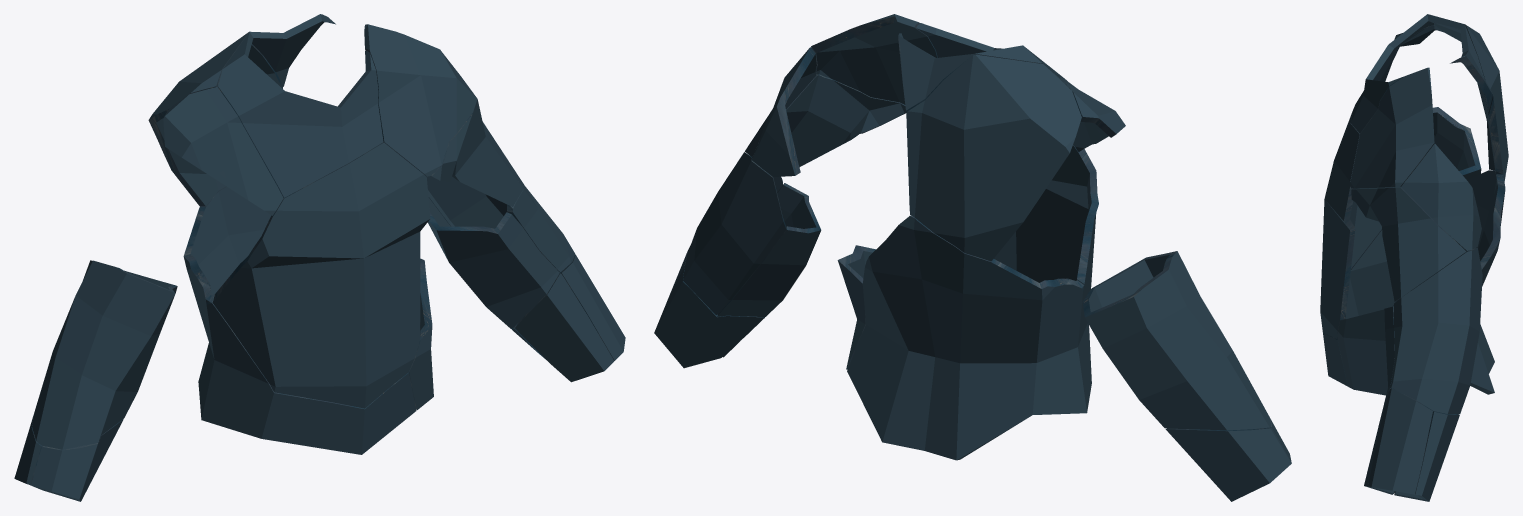
Rendered from pechera roto.fbx.
3 renders of one model, left to right at view 1: azimuth 30°, elevation 25°; view 2: azimuth 150°, elevation 25°; view 3: azimuth 270°, elevation 25°, orthographic. The views are drawn at different scales.
Visible parts, largest first — view 1: male.002_cell.013, male.002_cell.009, male.002_cell.005, male.002_cell.010, male.002_cell.015, male.002_cell.012, male.002_cell.002, male.002_cell.007, male.002_cell.003, male.002_cell.011, male.002_cell.014, male.002_cell (+3 smaller); view 2: male.002_cell.009, male.002_cell.014, male.002_cell.005, male.002_cell.003, male.002_cell.013, male.002_cell.015, male.002_cell.011, male.002_cell.018, male.002_cell.012, male.002_cell.016, male.002_cell.010, male.002_cell.001 (+2 smaller); view 3: male.002_cell.003, male.002_cell.009, male.002_cell.015, male.002_cell.013, male.002_cell.011, male.002_cell.004, male.002_cell.001, male.002_cell.008, male.002_cell.010, male.002_cell.014, male.002_cell.016, male.002_cell.005 (+3 smaller).
Boxes of the visible parts, <box> form: male.002_cell.013: <box>212,142,430,408</box>; male.002_cell.009: <box>183,186,416,454</box>; male.002_cell.005: <box>32,260,177,449</box>; male.002_cell.010: <box>218,14,383,197</box>; male.002_cell.015: <box>364,24,478,176</box>; male.002_cell.012: <box>427,197,559,328</box>; male.002_cell.002: <box>163,87,283,215</box>; male.002_cell.007: <box>515,273,614,382</box>; male.002_cell.003: <box>426,148,575,272</box>; male.002_cell.011: <box>431,103,523,206</box>; male.002_cell.014: <box>148,32,282,206</box>; male.002_cell: <box>31,419,123,501</box>; male.002_cell.009: <box>847,215,1091,460</box>; male.002_cell.014: <box>906,54,1081,261</box>; male.002_cell.005: <box>1082,251,1271,430</box>; male.002_cell.003: <box>683,152,786,315</box>; male.002_cell.013: <box>994,145,1098,326</box>; male.002_cell.015: <box>811,14,937,104</box>; male.002_cell.011: <box>745,74,906,167</box>; male.002_cell.018: <box>1165,427,1291,501</box>; male.002_cell.012: <box>717,183,821,316</box>; male.002_cell.016: <box>654,268,764,368</box>; male.002_cell.010: <box>898,23,1064,112</box>; male.002_cell.001: <box>752,47,816,176</box>; male.002_cell.003: <box>1390,247,1482,413</box>; male.002_cell.009: <box>1323,170,1505,394</box>; male.002_cell.015: <box>1350,67,1434,188</box>; male.002_cell.013: <box>1320,114,1400,339</box>; male.002_cell.011: <box>1351,187,1466,301</box>; male.002_cell.004: <box>1368,388,1432,494</box>; male.002_cell.001: <box>1401,143,1481,250</box>; male.002_cell.008: <box>1337,309,1387,395</box>; male.002_cell.010: <box>1351,14,1492,133</box>; male.002_cell.014: <box>1425,22,1508,174</box>; male.002_cell.016: <box>1394,411,1459,501</box>; male.002_cell.005: <box>1432,107,1481,179</box>.
Size of the model in its own units: 192 by 119 by 58.41.
Materials: 1 (1 with a texture image).
